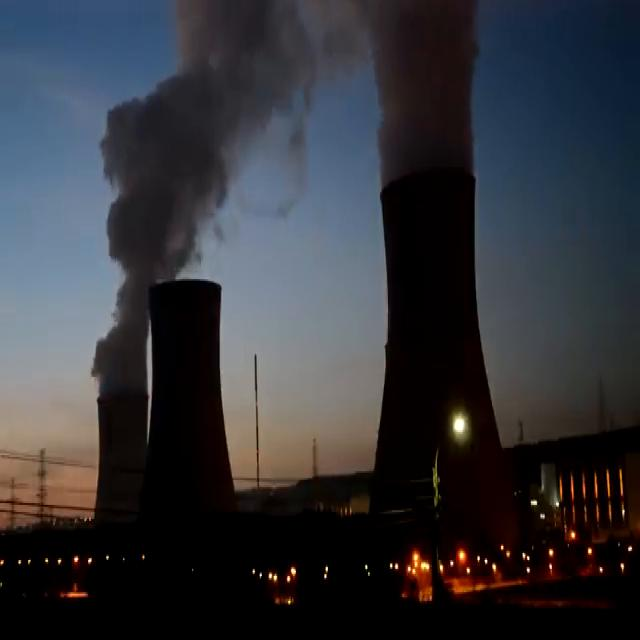smoke: (100, 0, 340, 332), (360, 0, 480, 190)
